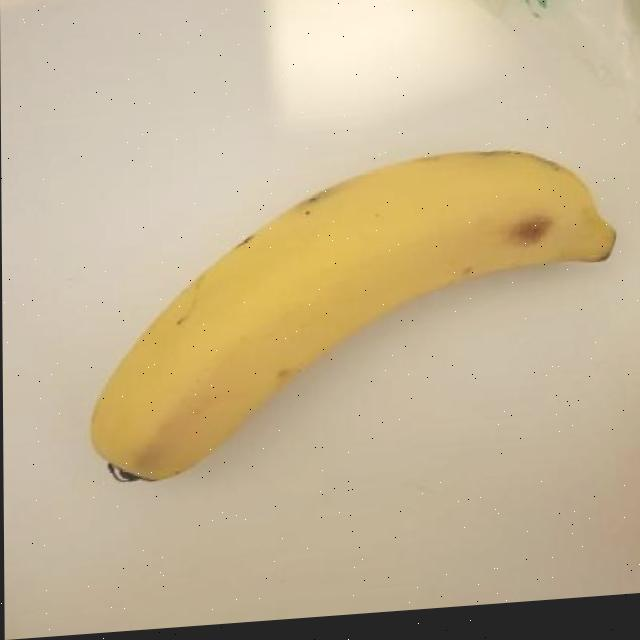banana: (80, 132, 633, 490)
